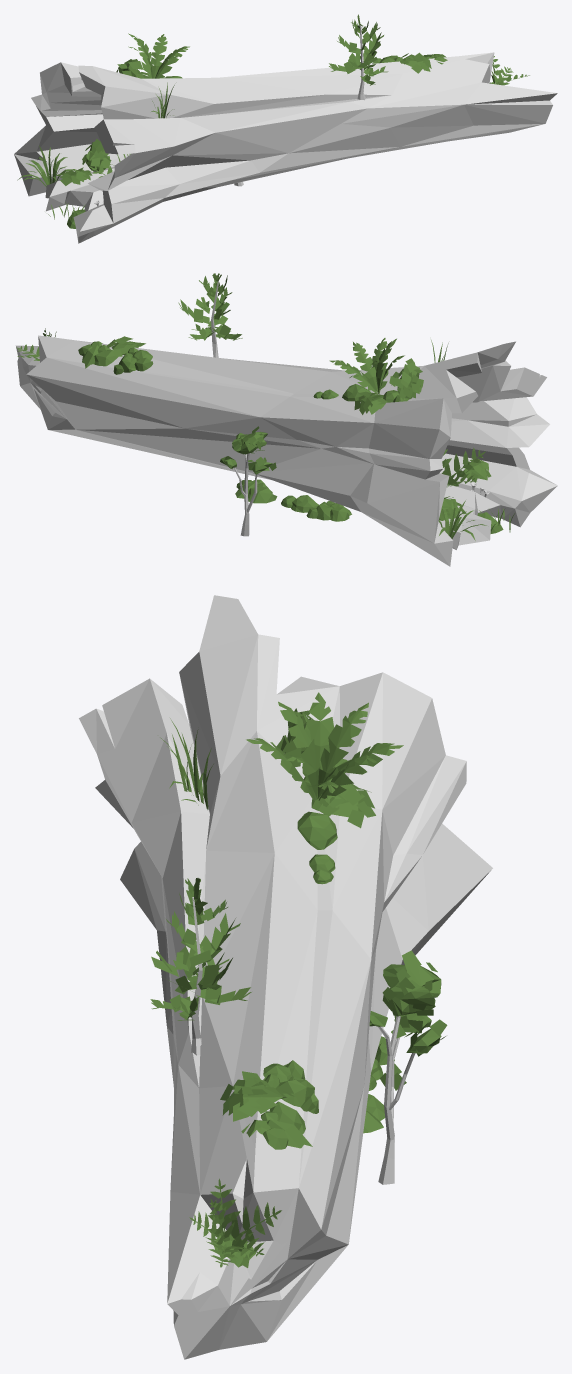
The model's file is tree-sequoia-rotten-big-vegetation.gltf.
The picture shows the model from 3 angles, top to bottom: view 1: azimuth 30°, elevation 25°; view 2: azimuth 150°, elevation 25°; view 3: azimuth 270°, elevation 25°; orthographic projection. The views are drawn at different scales.
Parts seen in each view (by area): view 1: tree-sequoia-rotten-big-vegetation; view 2: tree-sequoia-rotten-big-vegetation; view 3: tree-sequoia-rotten-big-vegetation.
Boxes of the visible parts, left/top/right/bottom form: tree-sequoia-rotten-big-vegetation: left=14, top=14, right=557, bottom=243; tree-sequoia-rotten-big-vegetation: left=16, top=273, right=557, bottom=566; tree-sequoia-rotten-big-vegetation: left=79, top=595, right=492, bottom=1359.
Bounding box in the file's own units: 0.0876 × 0.0335 × 0.0324.
